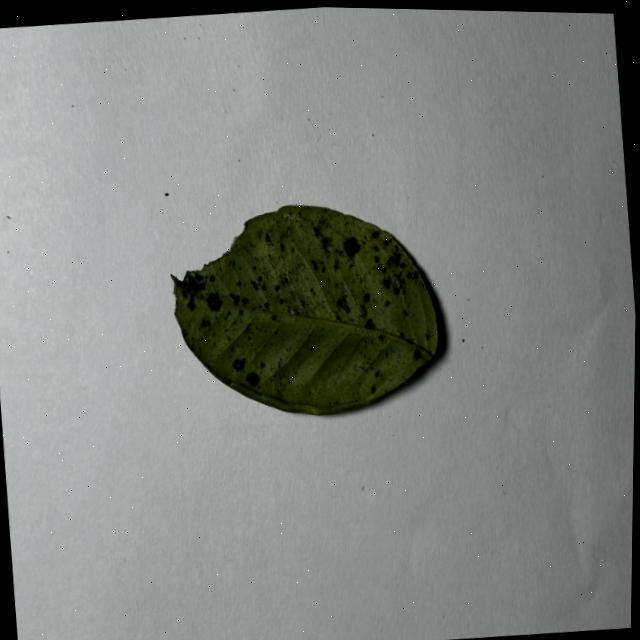sooty_mold: (173, 204, 437, 413)
